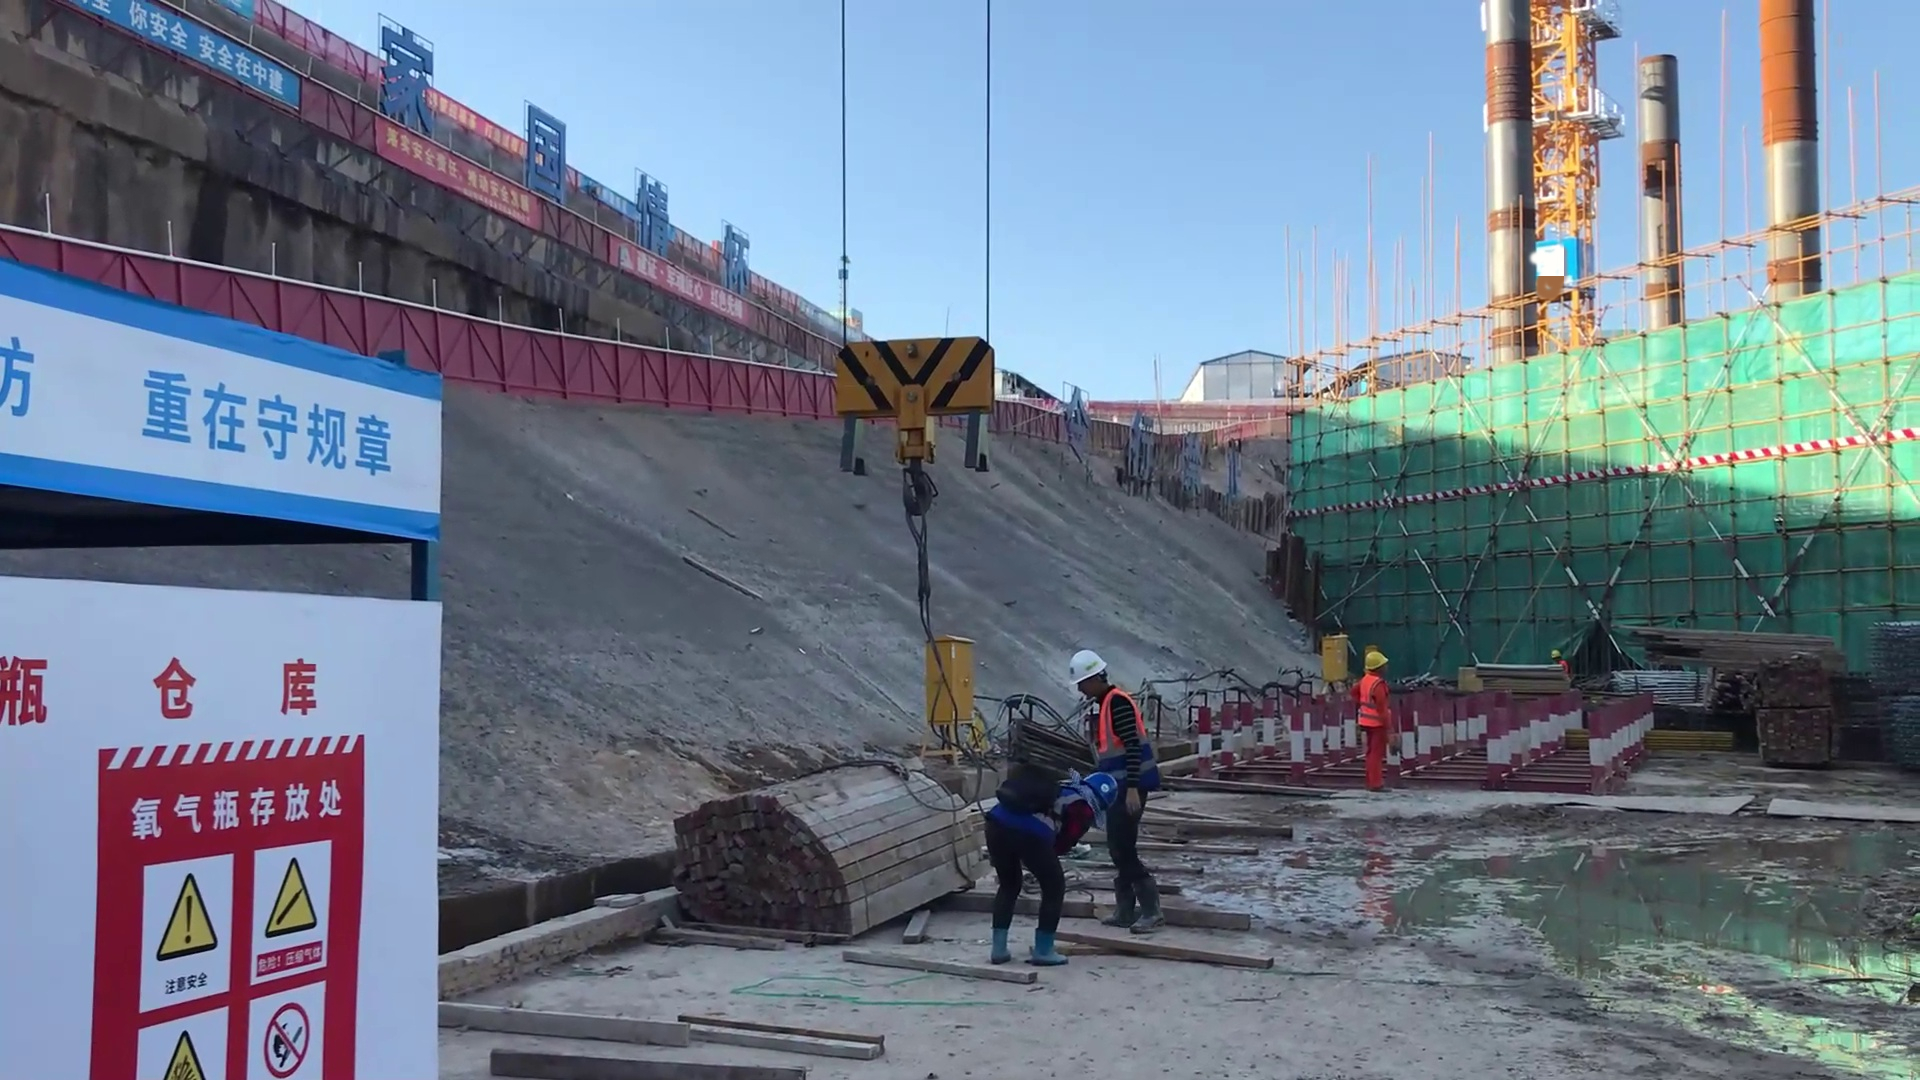ebox: (914, 623, 986, 756), (1308, 625, 1349, 691)
fence: (449, 315, 822, 424)
helmet: (1056, 643, 1111, 699), (1079, 766, 1123, 817), (1360, 643, 1392, 680), (1547, 644, 1566, 670)
hook: (817, 320, 999, 490)
person: (969, 765, 1113, 974), (1064, 648, 1166, 933), (1354, 648, 1398, 797)
slogan: (1, 291, 443, 559), (75, 764, 377, 1080), (68, 1, 312, 122), (360, 127, 540, 244)
vest: (1003, 783, 1084, 840), (1081, 699, 1137, 753), (1354, 675, 1390, 738)
wood: (643, 762, 963, 968), (1623, 623, 1838, 683)
